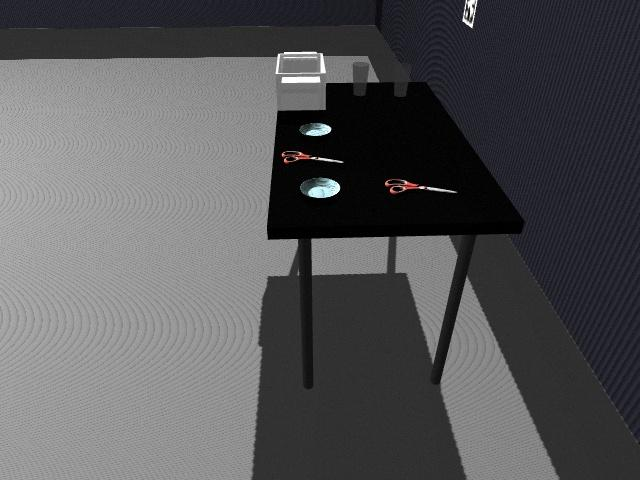cup: (352, 60, 370, 97), (395, 63, 411, 99)
plate: (300, 177, 342, 199), (298, 122, 332, 137)
scissors: (384, 178, 457, 196), (281, 150, 342, 164)
